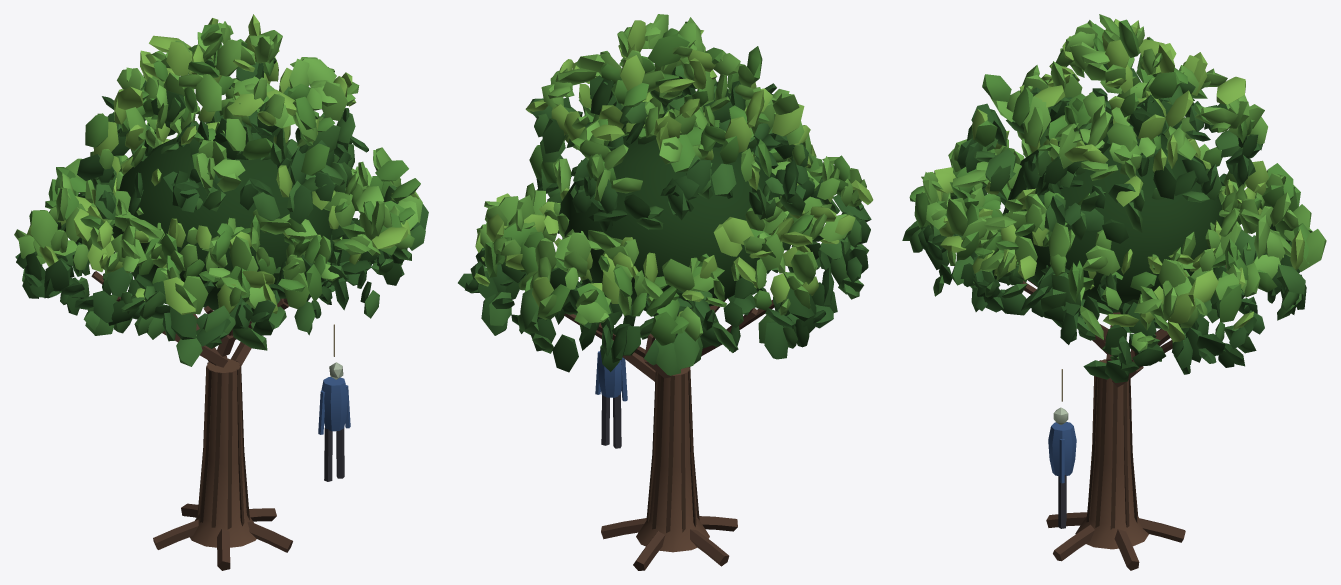
File: suburb_tree_hanged.glb
The picture shows the model from 3 angles, left to right: view 1: azimuth 30°, elevation 25°; view 2: azimuth 150°, elevation 25°; view 3: azimuth 270°, elevation 25°; orthographic projection.
Visible parts, largest first — view 1: suburb_tree_hanged; view 2: suburb_tree_hanged; view 3: suburb_tree_hanged.
Boxes of the visible parts, box(x1,y1,x2,y2) form: suburb_tree_hanged: box(14, 14, 428, 570); suburb_tree_hanged: box(458, 14, 873, 570); suburb_tree_hanged: box(902, 14, 1326, 570).
Bounding box in the file's own units: 5.78 × 8.06 × 5.95.
